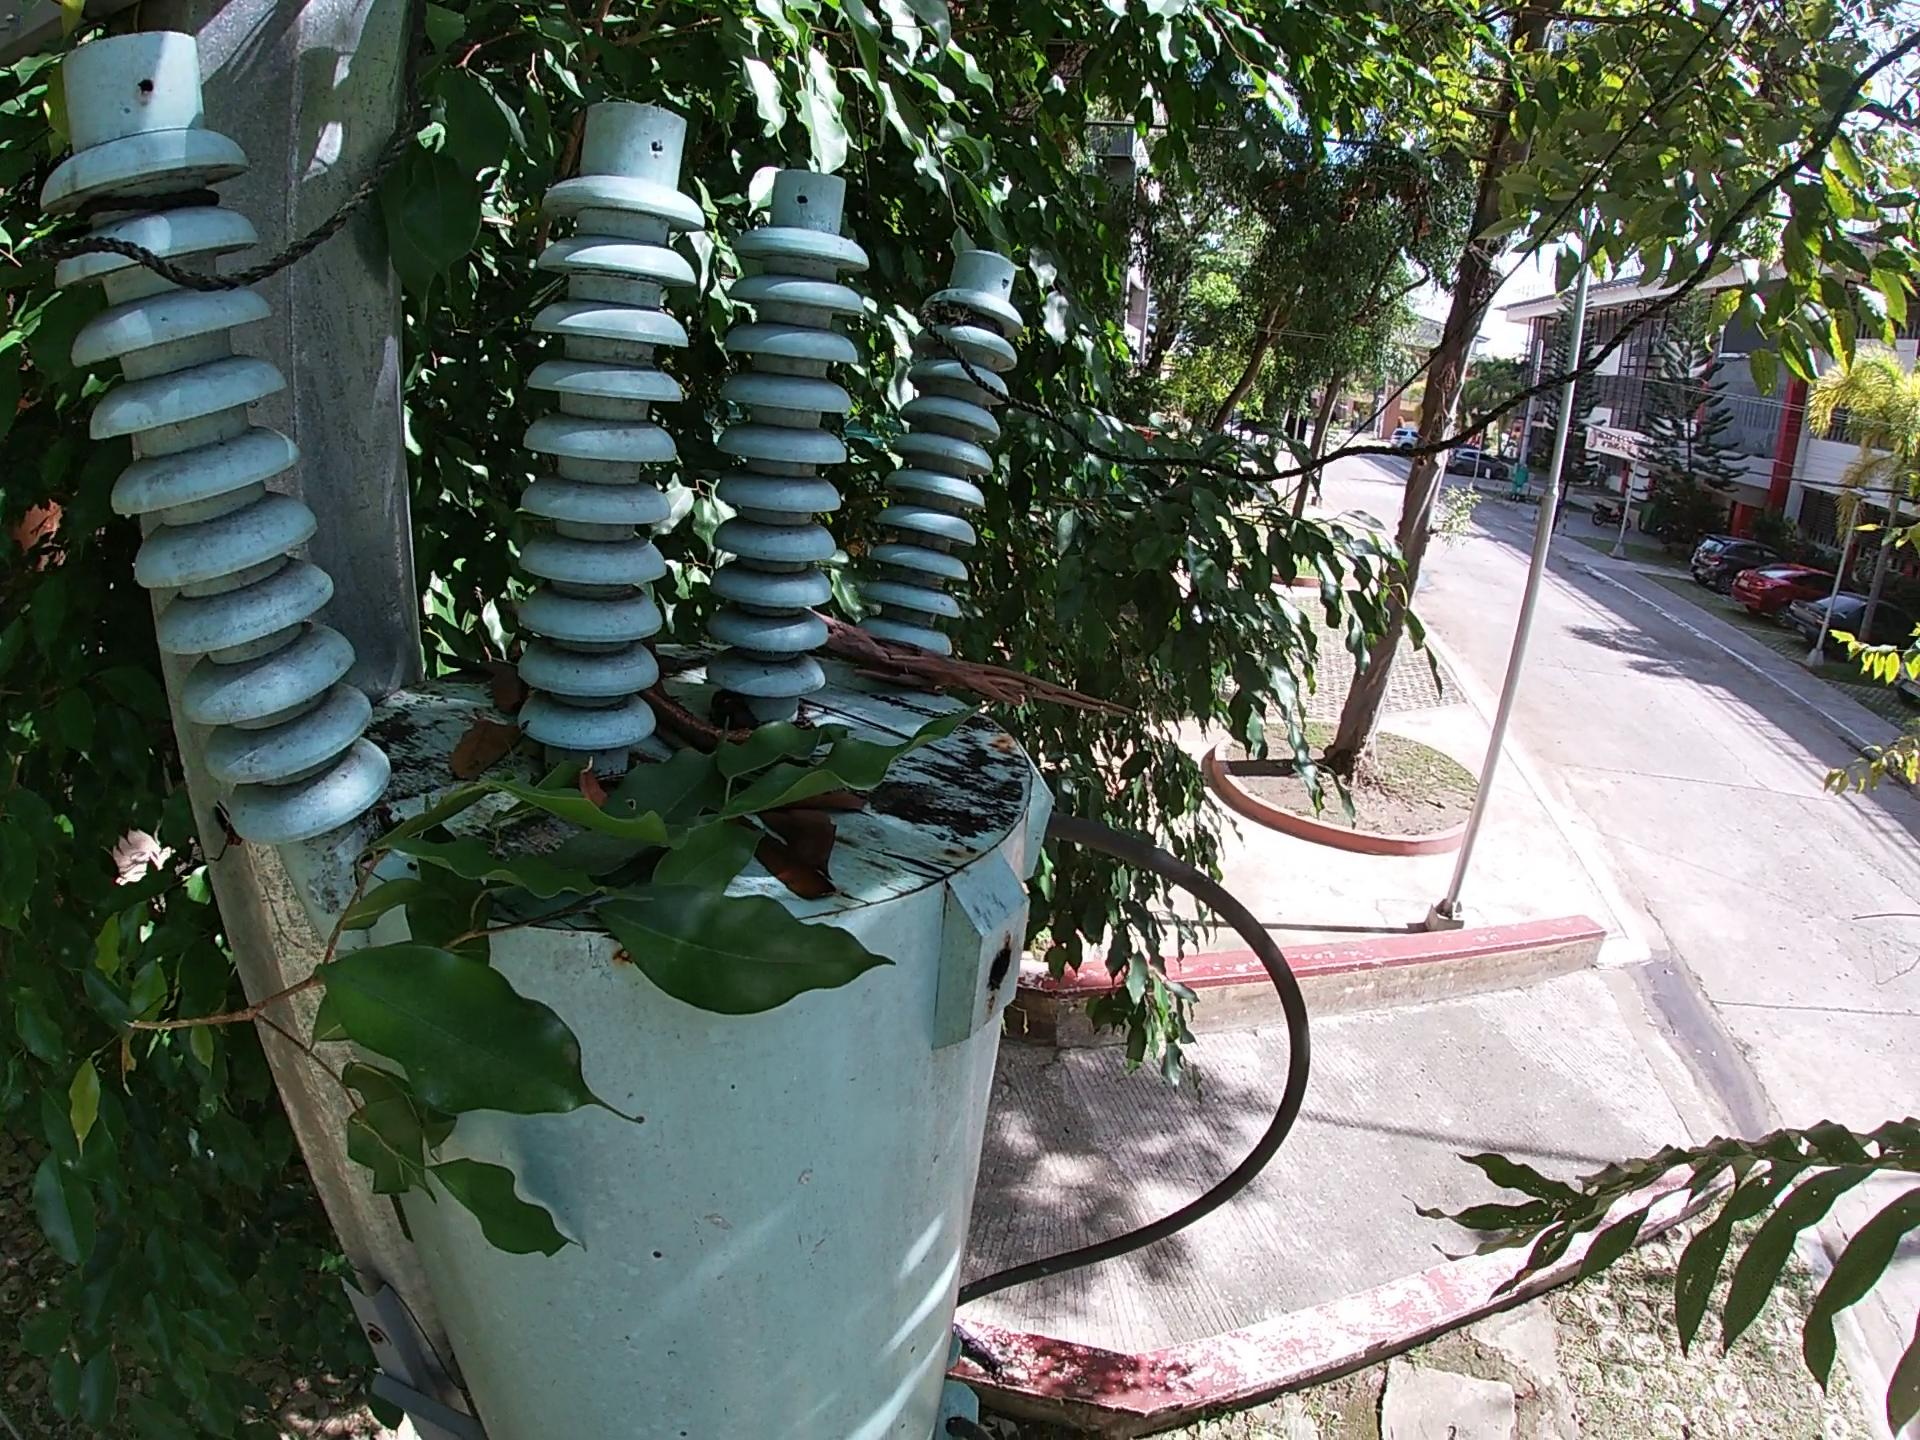branch with leaves: (116, 694, 1002, 1265)
leaf: (733, 815, 842, 905), (444, 706, 531, 790), (756, 805, 845, 882), (766, 785, 878, 818), (478, 656, 534, 720)
mahogany fruit: (643, 640, 753, 750), (568, 752, 612, 817)
tree branch: (804, 604, 1141, 729)
